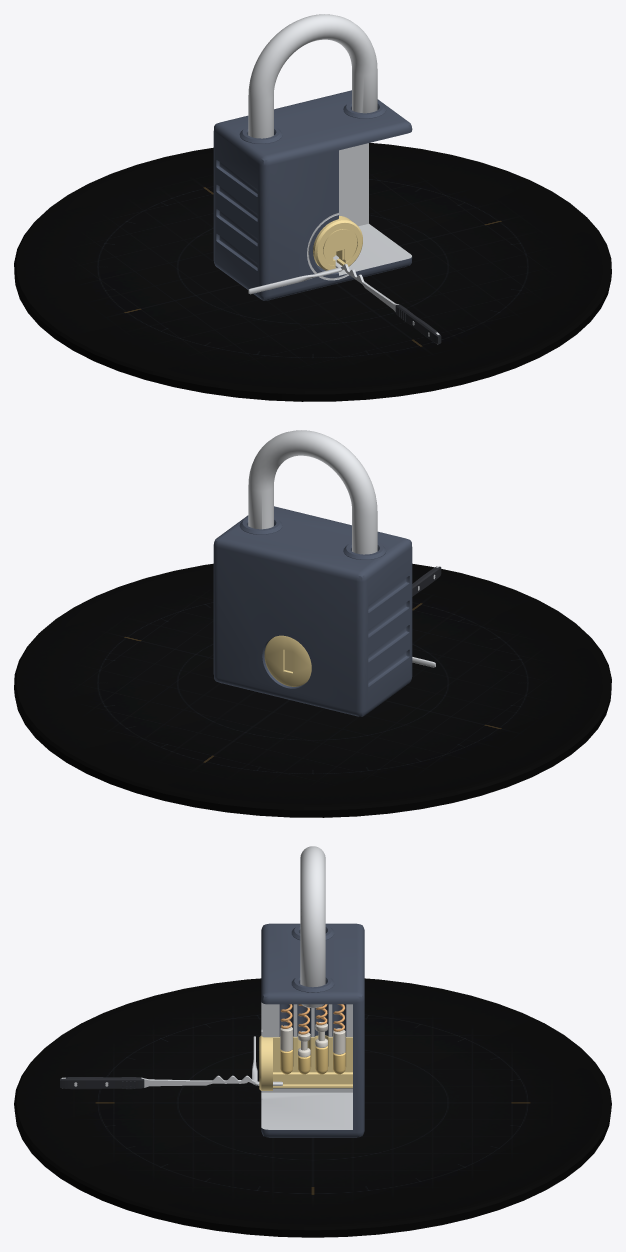
Rendered from cutaway_padlock.glb.
The picture shows the model from 3 angles, top to bottom: view 1: azimuth 30°, elevation 25°; view 2: azimuth 150°, elevation 25°; view 3: azimuth 270°, elevation 25°; orthographic projection.
Parts seen in each view (by area): view 1: Bench, Body_Cutaway, Shackle, Core_Plug, HookPick, TensionWrench; view 2: Bench, Body_Cutaway, Shackle, Core_Plug; view 3: Bench, Body_Cutaway, Shackle, Core_Plug, HookPick, RakePick.
Part boxes in pixels (x1,y1,x2,y2): Bench: [14, 143, 611, 401]; Body_Cutaway: [213, 90, 412, 300]; Shackle: [248, 14, 377, 138]; Core_Plug: [313, 216, 362, 270]; HookPick: [344, 264, 441, 342]; TensionWrench: [248, 261, 342, 294]; Bench: [14, 563, 611, 817]; Body_Cutaway: [213, 506, 412, 716]; Shackle: [248, 430, 377, 554]; Core_Plug: [264, 635, 311, 686]; Bench: [14, 978, 611, 1237]; Body_Cutaway: [261, 923, 364, 1137]; Shackle: [300, 846, 325, 1007]; Core_Plug: [259, 1035, 352, 1090]; HookPick: [60, 1075, 248, 1086]; RakePick: [60, 1075, 255, 1089].
Size of the model in its own units: 1.5 by 0.7217 by 1.5.
11 materials, 1 textured.
